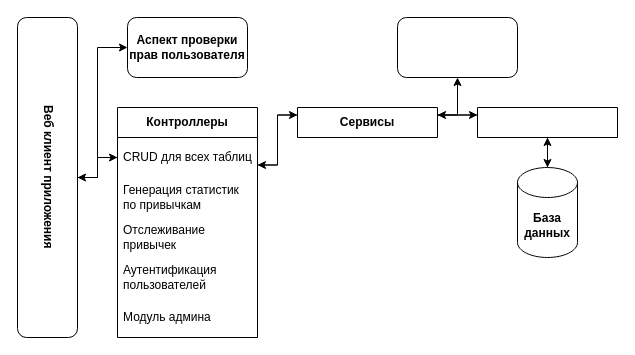
Some shapes in this 635 by 355 pixel diagram are drawn without their labels. The shapes that lost their labels are listed below. From the top down, each one's box as (x1, y1, x2, y2) in pixels, then its label:
(396, 16, 518, 78): Модуль авторизации JWT
(476, 106, 618, 138): Репозитории
